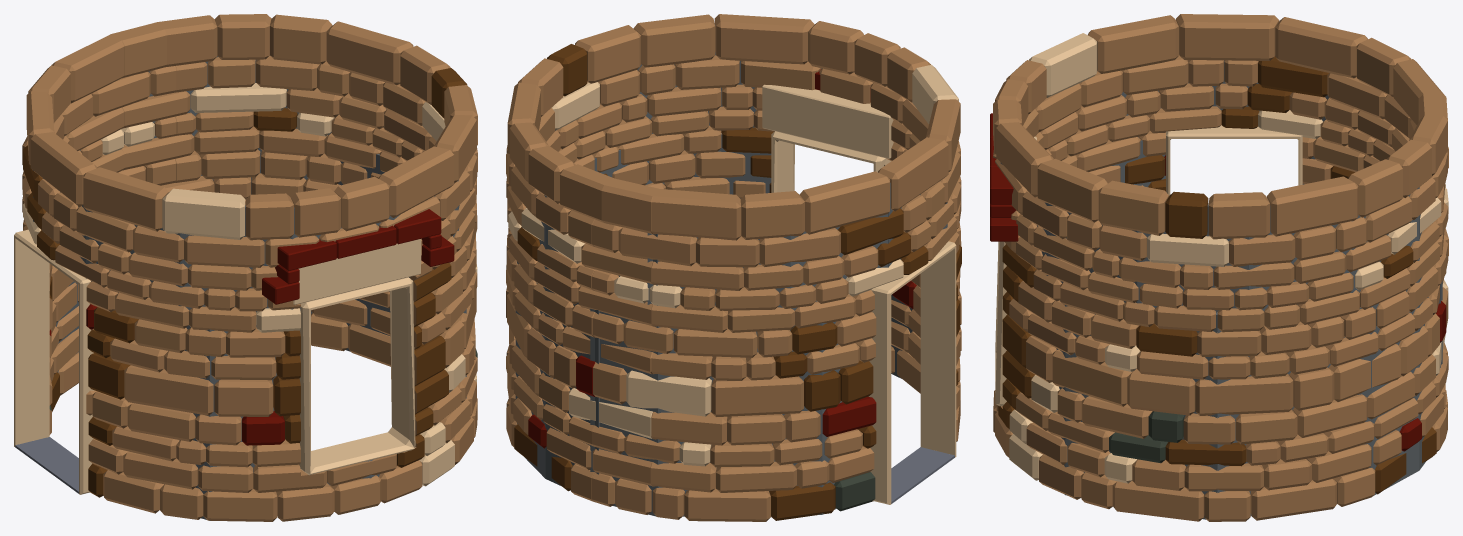
The model's file is mid-section-with-large-slit-and-doorway.glb.
3 renders of one model, left to right at view 1: azimuth 30°, elevation 25°; view 2: azimuth 150°, elevation 25°; view 3: azimuth 270°, elevation 25°, orthographic.
Parts seen in each view (by area): view 1: main-wall.057, doorway-frame, large-slit-frame, plaque-stone, grout-wall.003, doorway-step, plaque-stone.003, plaque-stone.004, plaque-stone.007, plaque-stone.001, plaque-stone.005; view 2: main-wall.057, doorway-frame, plaque-stone, grout-wall.003, large-slit-frame, doorway-step; view 3: main-wall.057, grout-wall.003, doorway-frame, large-slit-frame, plaque-stone.007, plaque-stone.005.
Boxes of the visible parts, left/top/right/bottom form: main-wall.057: left=22, top=14, right=477, bottom=521; doorway-frame: left=14, top=229, right=94, bottom=494; large-slit-frame: left=299, top=277, right=415, bottom=475; plaque-stone: left=293, top=239, right=421, bottom=304; grout-wall.003: left=33, top=56, right=466, bottom=520; doorway-step: left=15, top=437, right=78, bottom=493; plaque-stone.003: left=277, top=239, right=336, bottom=270; plaque-stone.004: left=335, top=225, right=396, bottom=258; plaque-stone.007: left=394, top=209, right=441, bottom=244; plaque-stone.001: left=262, top=277, right=299, bottom=304; plaque-stone.005: left=421, top=236, right=454, bottom=266; main-wall.057: left=506, top=14, right=961, bottom=521; doorway-frame: left=868, top=241, right=956, bottom=504; plaque-stone: left=762, top=84, right=893, bottom=158; grout-wall.003: left=515, top=25, right=947, bottom=516; large-slit-frame: left=771, top=131, right=886, bottom=192; doorway-step: left=891, top=447, right=954, bottom=503; main-wall.057: left=993, top=14, right=1448, bottom=521; grout-wall.003: left=1000, top=60, right=1442, bottom=519; doorway-frame: left=1166, top=125, right=1302, bottom=195; large-slit-frame: left=995, top=241, right=1006, bottom=406; plaque-stone.007: left=990, top=167, right=1013, bottom=204; plaque-stone.005: left=990, top=217, right=1018, bottom=241.
Size of the model in its own units: 2.9 by 2.25 by 2.92.
